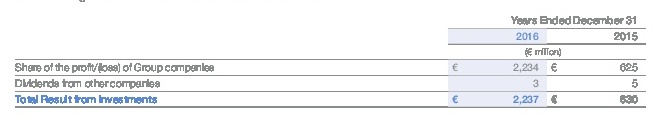table: (0, 0, 658, 126)
